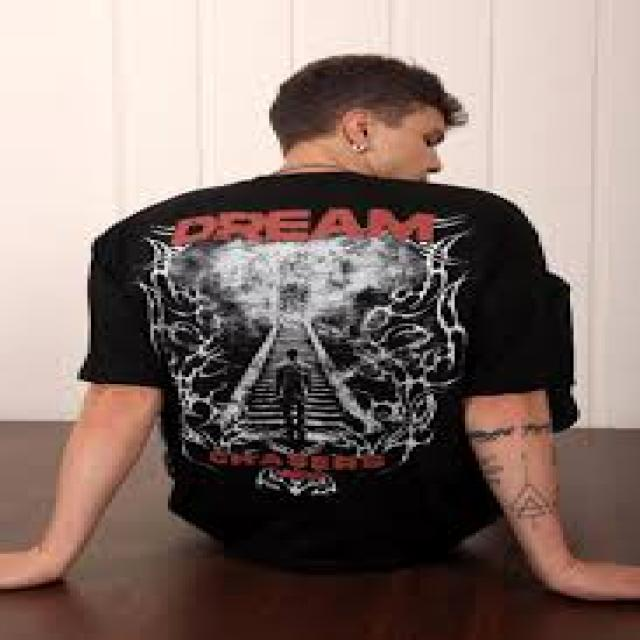face: (364, 108, 447, 181)
top-wear: (85, 173, 557, 555)
